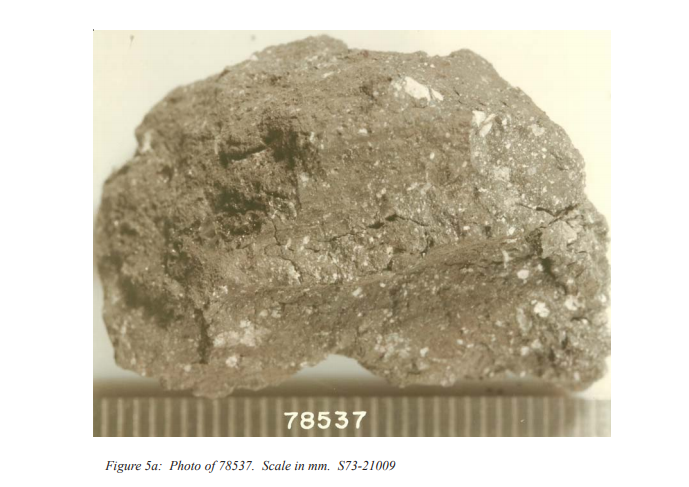Basalt: (95, 32, 600, 387), (210, 110, 552, 349)
